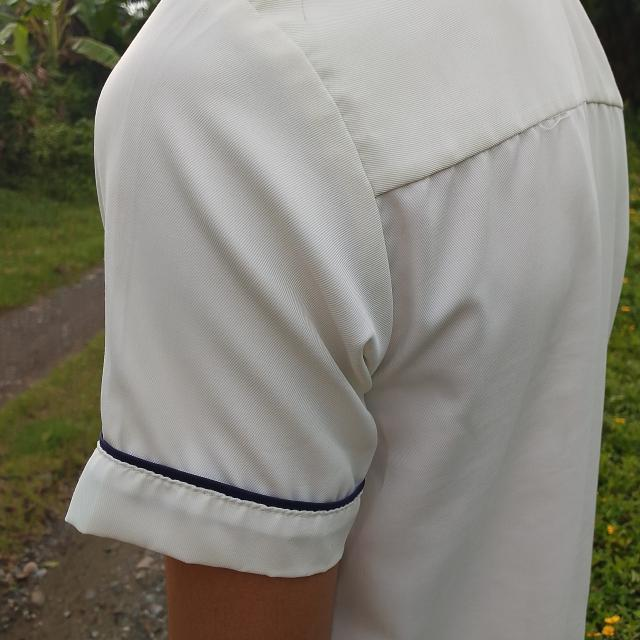education_male_uniform: (28, 0, 640, 618)
